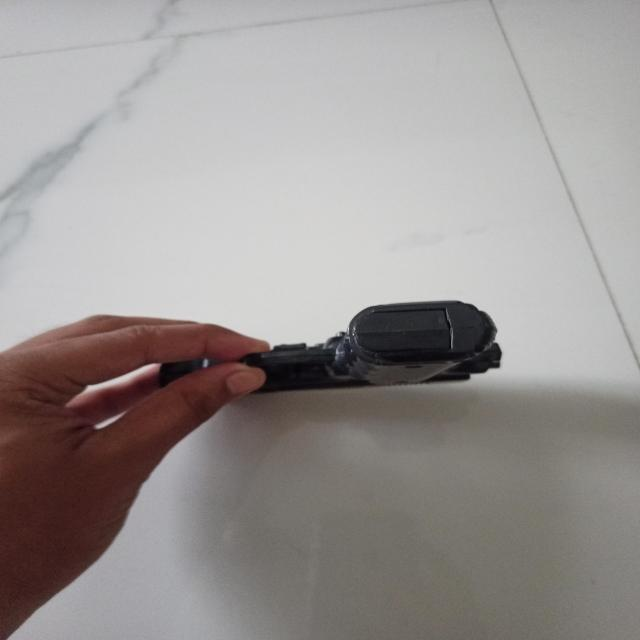handgun: (152, 301, 499, 398)
